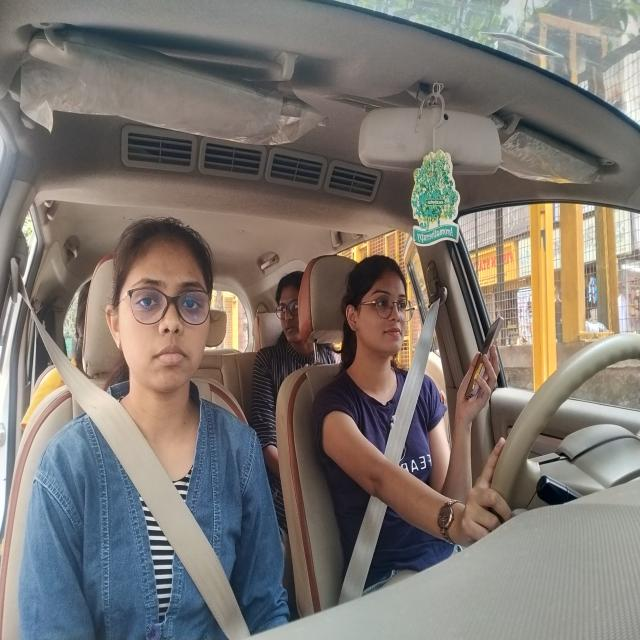mobile: (469, 310, 508, 402)
person: (115, 231, 209, 394), (345, 264, 411, 366), (274, 268, 308, 357)
